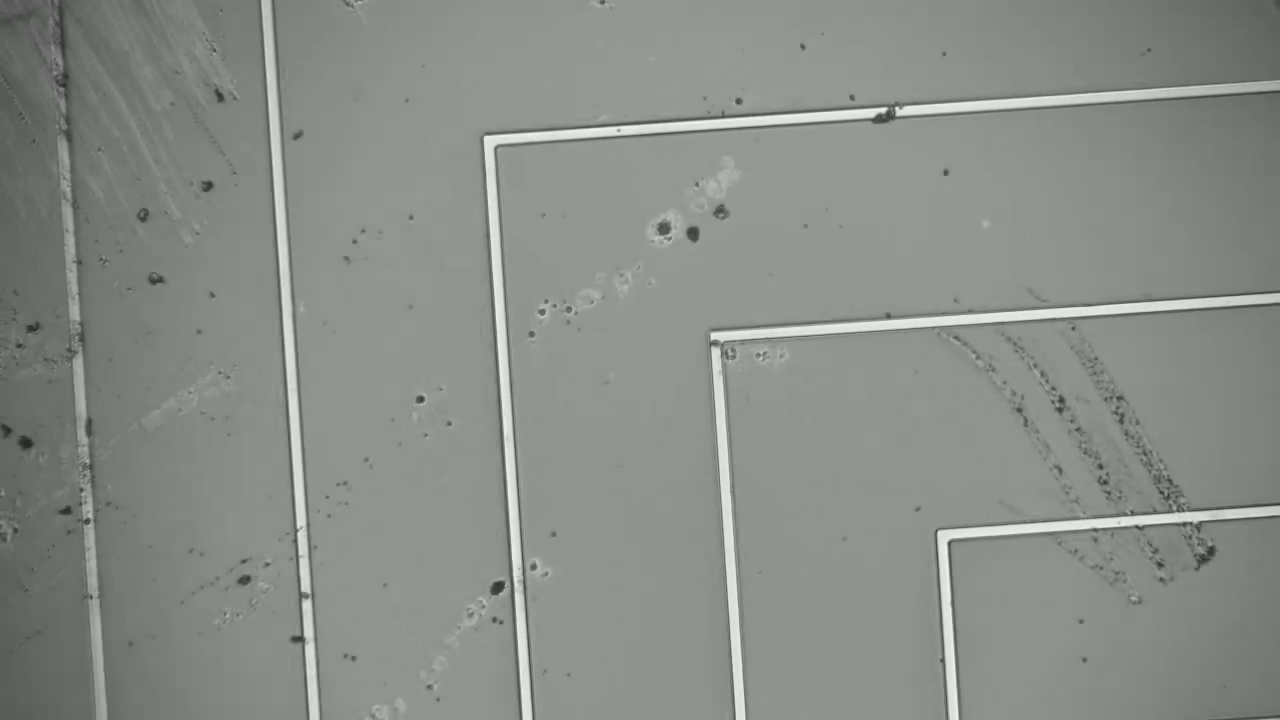scratch: (938, 275, 1220, 613)
stains_enbedded: (865, 90, 912, 131)
